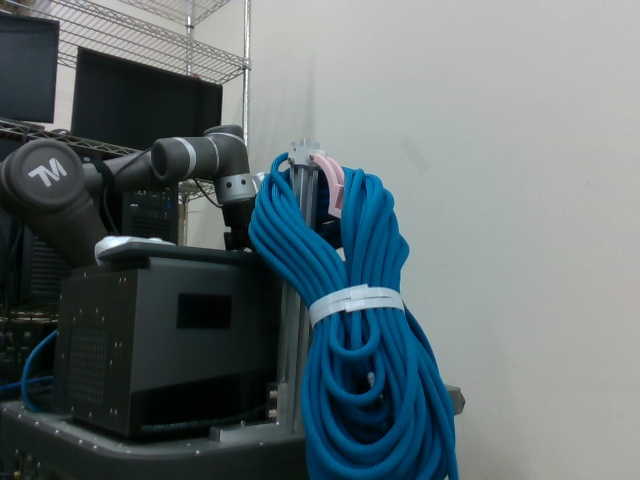rope: (246, 145, 457, 480)
